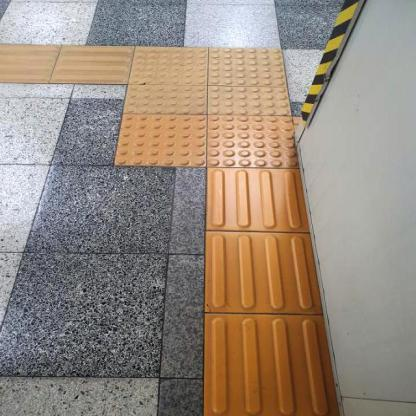podotacti: (86, 13, 325, 236), (208, 169, 338, 415), (0, 45, 129, 82)
